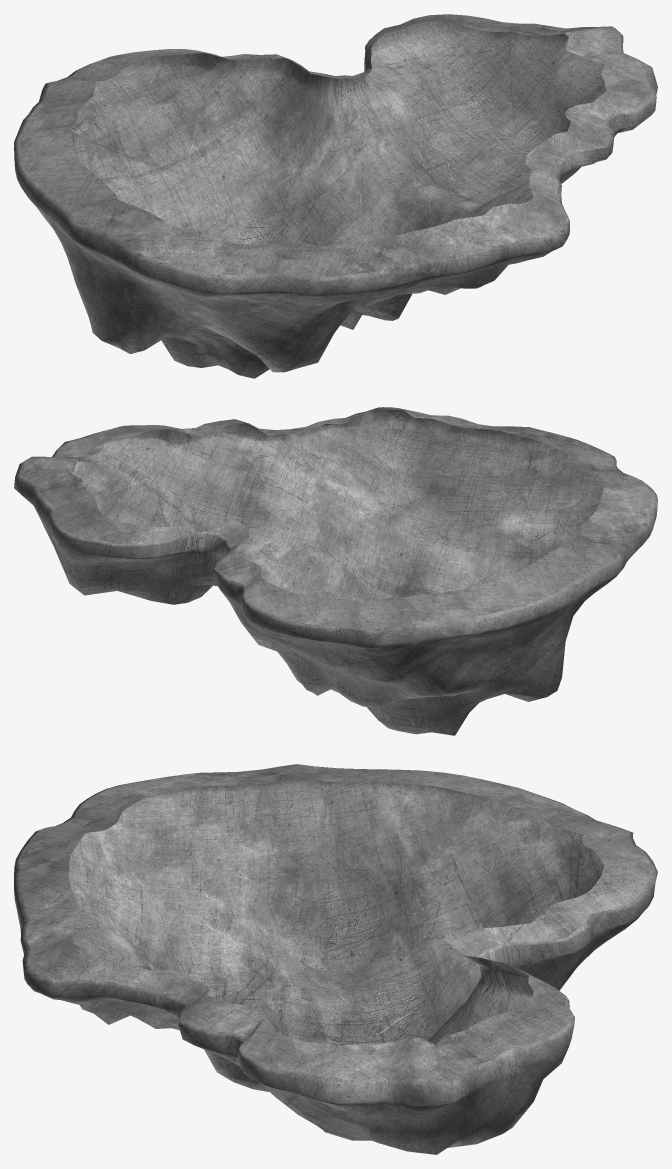
File: ShanXia_mo.fbx
3 views of the same model, one above another, from view 1: azimuth 30°, elevation 25°; view 2: azimuth 150°, elevation 25°; view 3: azimuth 270°, elevation 25° (orthographic). The views are drawn at different scales.
Parts seen in each view (by area): view 1: ShanXia; view 2: ShanXia; view 3: ShanXia.
Part boxes in pixels (bbox=[...]): ShanXia: bbox=[14, 14, 657, 378]; ShanXia: bbox=[14, 407, 657, 735]; ShanXia: bbox=[14, 764, 657, 1154].
Bounding box in the file's own units: 84.25 × 30.25 × 70.24.
